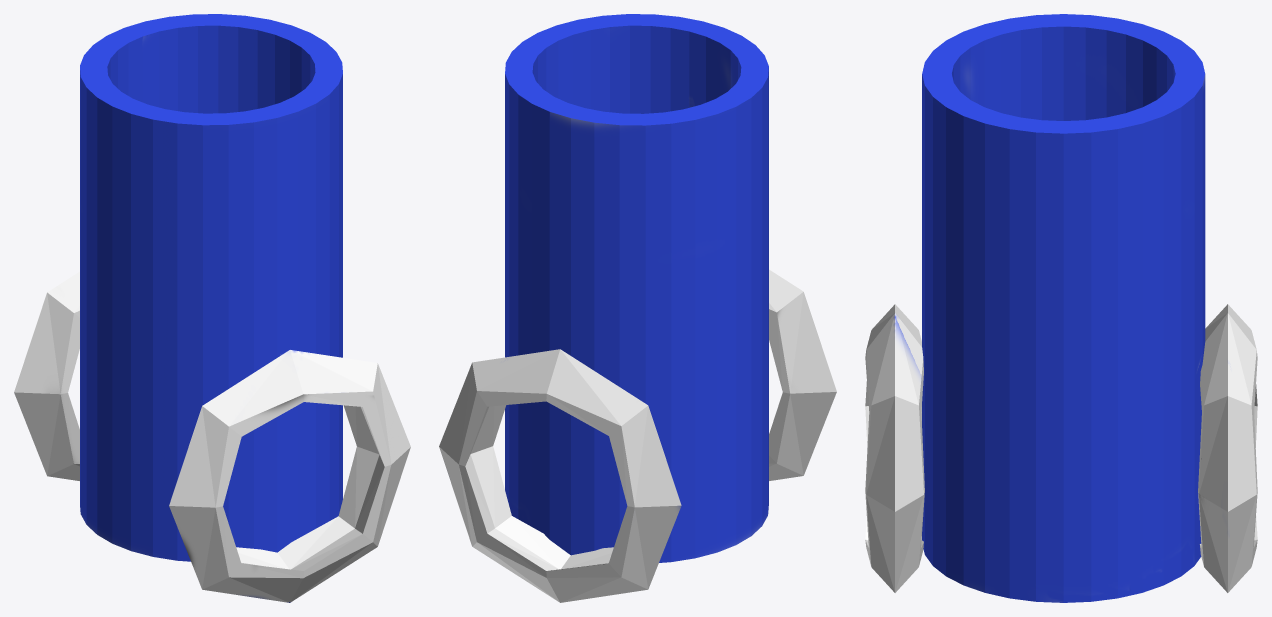
The model's file is Cannon.obj.
3 views of the same model, side by side, from view 1: azimuth 30°, elevation 25°; view 2: azimuth 150°, elevation 25°; view 3: azimuth 270°, elevation 25° (orthographic). The views are drawn at different scales.
Visible parts, largest first — view 1: 円柱; view 2: 円柱; view 3: 円柱.
Boxes of the visible parts, x1=… form: 円柱: x1=14, y1=14, x2=410, y2=602; 円柱: x1=439, y1=14, x2=836, y2=602; 円柱: x1=865, y1=14, x2=1257, y2=602.
Size of the model in its own units: 2.12 by 3.98 by 2.77.
1 material, 1 textured.
